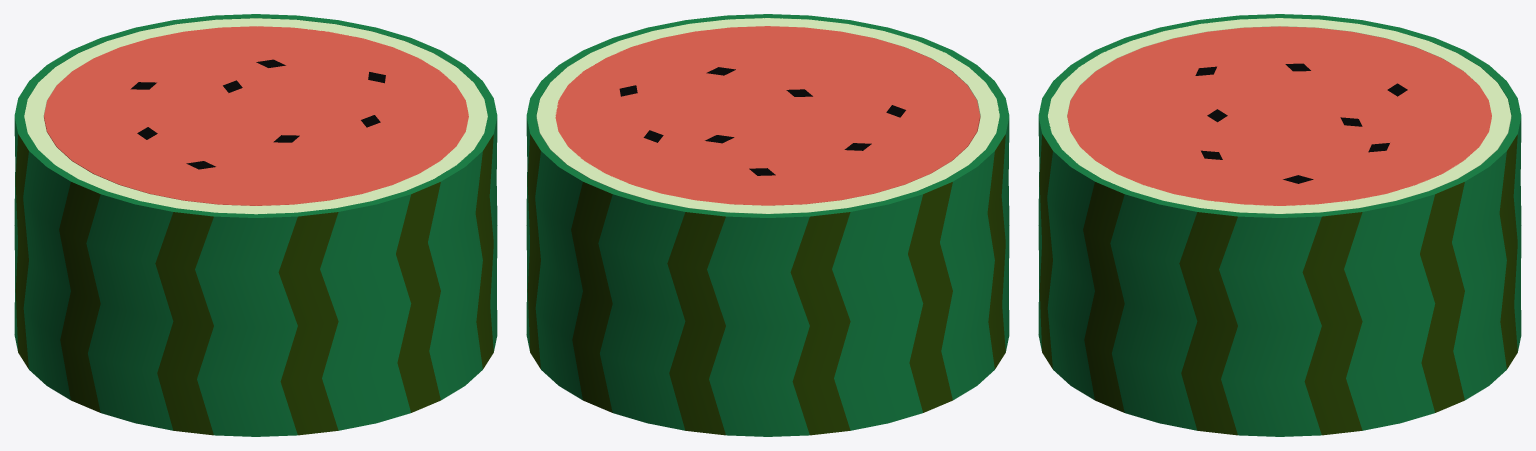
Rendered from x_xigua.obj.
3 renders of one model, left to right at view 1: azimuth 30°, elevation 25°; view 2: azimuth 150°, elevation 25°; view 3: azimuth 270°, elevation 25°, orthographic.
Parts seen in each view (by area): view 1: xiguapi, xiguaxin, pi, xiguazi; view 2: xiguapi, xiguaxin, pi, xiguazi; view 3: xiguapi, xiguaxin, pi, xiguazi.
Part boxes in pixels (x1,y1,x2,y2): xiguapi: (14,14,497,436); xiguaxin: (44,26,468,205); pi: (24,18,487,214); xiguazi: (130,59,385,169); xiguapi: (526,14,1009,436); xiguaxin: (555,26,980,205); pi: (536,18,999,213); xiguazi: (619,67,905,175); xiguapi: (1038,14,1521,436); xiguaxin: (1067,26,1491,205); pi: (1048,18,1511,213); xiguazi: (1195,63,1407,183).
Size of the model in its own units: 10 by 5 by 10.
